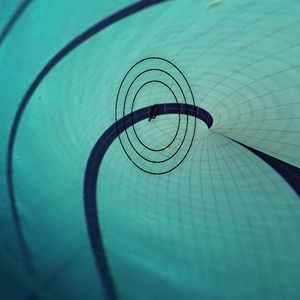circle: (103, 49, 219, 192)
submarine: (144, 101, 165, 129)
